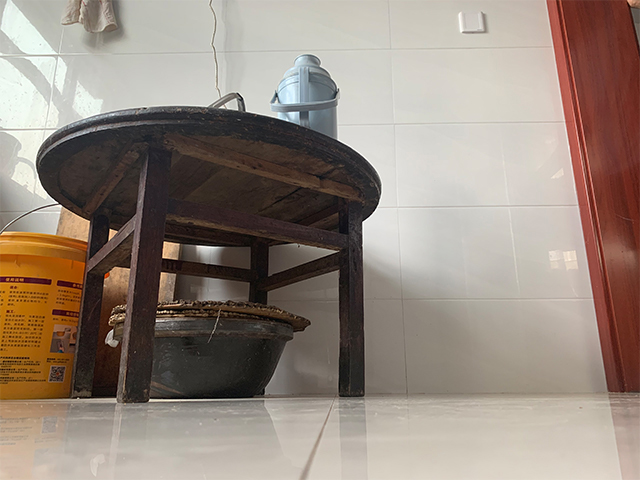table: (34, 104, 383, 405)
